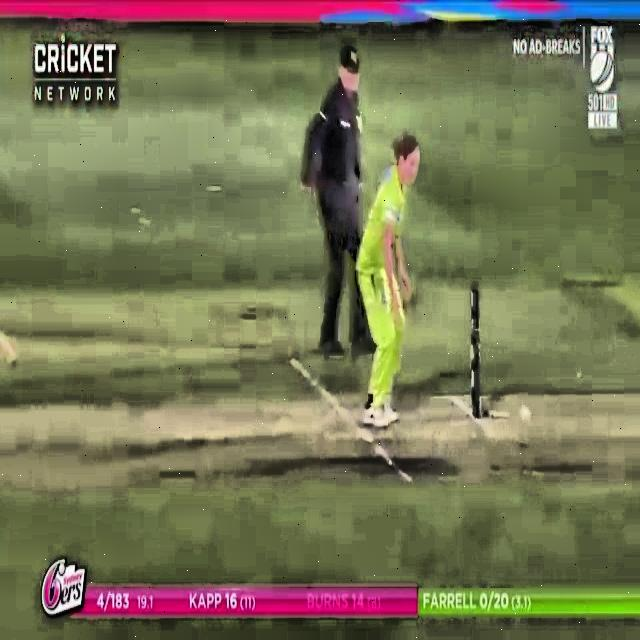Ball: (503, 395, 541, 429)
Pitch_Line: (284, 356, 417, 486)
Undis_Wicket: (460, 282, 490, 422)
